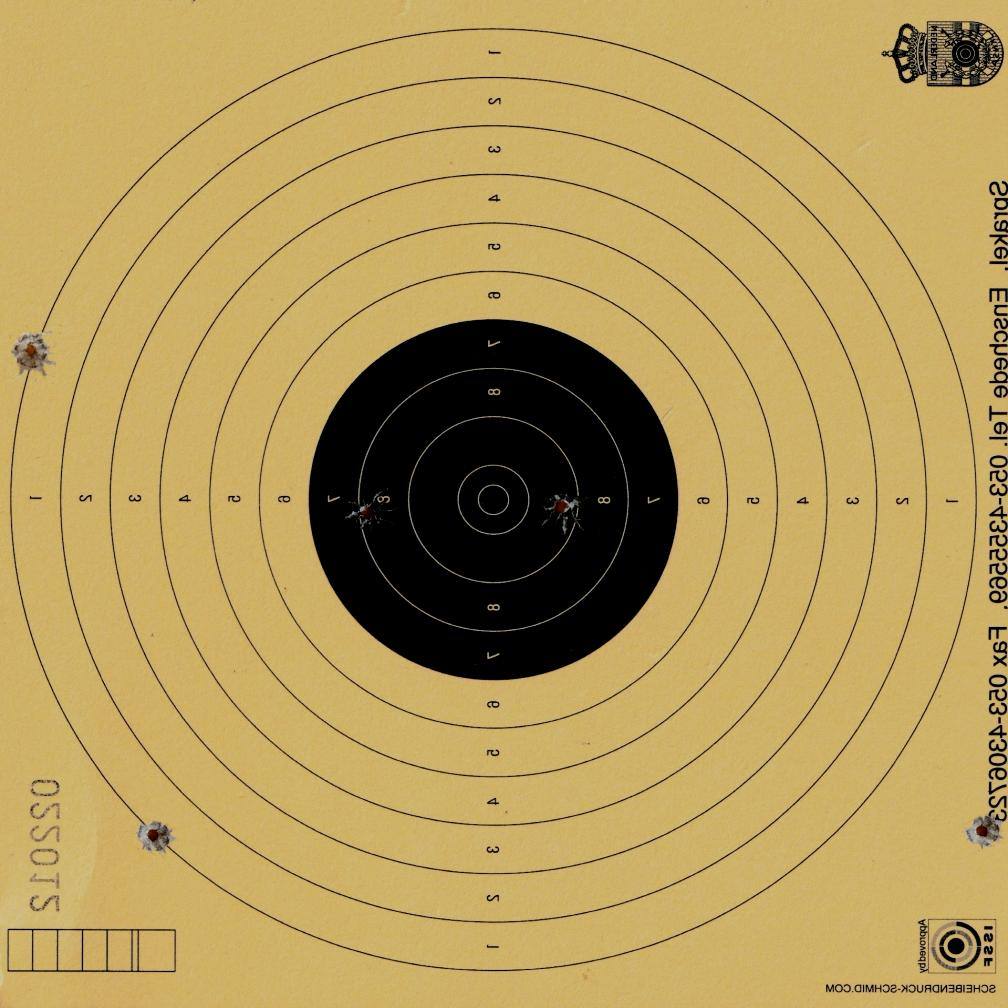0: (961, 812, 1008, 855)
1: (7, 329, 60, 380), (134, 817, 178, 857)
8: (344, 488, 395, 536)
9: (538, 486, 592, 538)
Target: (6, 24, 982, 976)
black_contour: (309, 319, 682, 682)
